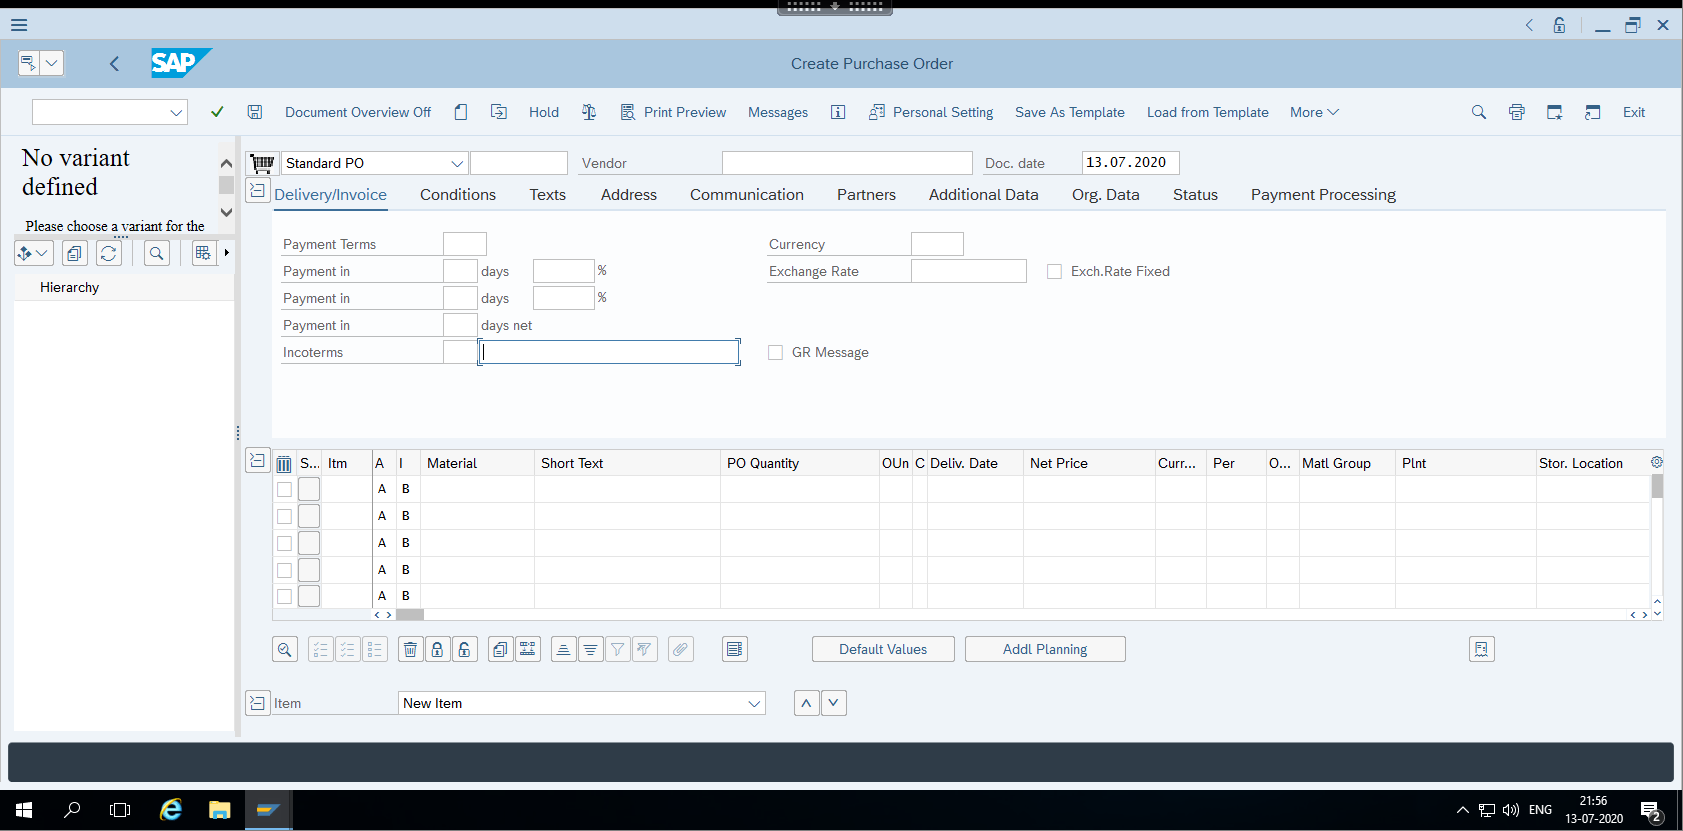BUTTON: (965, 635, 1124, 661), (813, 635, 955, 661)
CHECKBOX_UNCHECKED: (275, 586, 296, 606), (275, 505, 294, 525), (276, 483, 292, 500), (276, 535, 291, 551), (276, 563, 291, 579), (1045, 263, 1060, 277), (769, 344, 782, 359)
COLUMN: (536, 447, 720, 609), (719, 446, 879, 609), (1393, 447, 1535, 609), (1025, 446, 1156, 608), (1533, 449, 1650, 611), (422, 448, 536, 608), (1297, 446, 1395, 609), (930, 444, 1024, 611), (1206, 443, 1267, 609), (1155, 444, 1208, 610), (321, 448, 371, 609), (1265, 446, 1298, 608), (879, 444, 911, 607), (269, 449, 299, 609), (372, 449, 397, 607), (397, 448, 422, 606), (298, 448, 320, 609), (912, 444, 930, 608)
COMBOBOX: (397, 690, 765, 714), (270, 149, 468, 174), (29, 97, 188, 127)
DROPDOWN_HANDLE: (160, 99, 188, 127), (442, 148, 468, 174), (821, 689, 845, 715), (1321, 97, 1342, 126), (741, 690, 765, 714)
HEADER_ROW: (270, 448, 1647, 473)
IMAGEBUTTON: (282, 97, 431, 126), (14, 46, 64, 79), (93, 42, 132, 81), (523, 98, 564, 125), (15, 238, 53, 265), (204, 97, 231, 125), (721, 635, 748, 661), (667, 635, 693, 661), (334, 636, 361, 662), (1469, 635, 1495, 661), (1503, 98, 1530, 123), (447, 98, 473, 123), (631, 635, 657, 661), (1620, 98, 1647, 123), (272, 636, 298, 661), (551, 635, 576, 660), (576, 98, 602, 123), (485, 98, 511, 123), (1579, 98, 1605, 123), (362, 636, 387, 661), (1542, 98, 1568, 123), (579, 635, 603, 661), (604, 635, 629, 661), (144, 240, 169, 266), (487, 635, 512, 660), (193, 240, 218, 266), (452, 636, 477, 661), (307, 636, 332, 661), (425, 636, 450, 661), (1466, 98, 1491, 123), (514, 635, 539, 660), (615, 98, 640, 123), (242, 98, 266, 123), (824, 99, 849, 123), (97, 240, 121, 265), (62, 240, 86, 265), (397, 635, 421, 659), (213, 240, 235, 266), (245, 448, 268, 471), (246, 690, 269, 712), (1622, 16, 1641, 35), (1592, 17, 1610, 35), (1550, 17, 1568, 34), (1521, 16, 1537, 33)
ROW: (274, 499, 1652, 529), (272, 556, 1649, 586), (270, 526, 1652, 555), (273, 476, 1650, 500), (273, 584, 1650, 608)
SCROLLBAR_HORIZONTAL_BAR: (372, 608, 1648, 619)
SCROLLBAR_HORIZONTAL_HANDLE: (1626, 604, 1649, 619)
SCROLLBAR_VERTICAL: (1649, 455, 1666, 615), (215, 142, 236, 231)
SCROLLBAR_VERTICAL_BAR: (1650, 473, 1667, 499)
SCROLLBAR_VERTICAL_HANDLE: (215, 142, 236, 175), (217, 200, 236, 231), (1649, 455, 1665, 473), (1651, 596, 1666, 615), (1647, 601, 1663, 617)
TABLE: (272, 448, 1649, 608)
TEXTBOX: (479, 338, 740, 363), (721, 149, 971, 174), (767, 258, 911, 280), (911, 257, 1025, 282), (469, 149, 567, 175), (1085, 150, 1180, 174), (531, 257, 595, 281), (533, 285, 594, 308), (911, 231, 965, 256), (444, 230, 489, 254), (442, 256, 477, 282), (441, 283, 478, 308), (442, 312, 479, 337), (444, 338, 481, 363)
